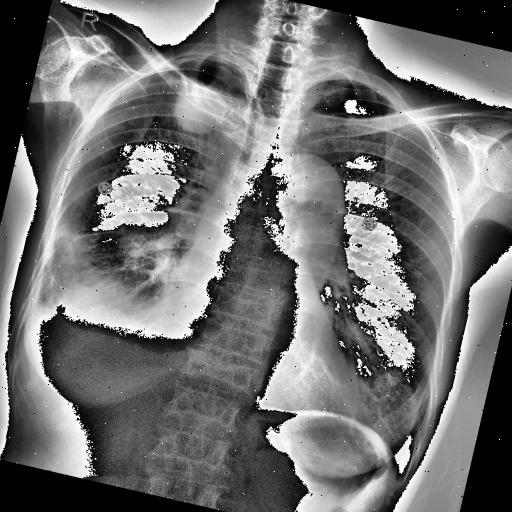0- Aortic enlargement: (258, 144, 358, 253), (264, 146, 357, 242), (262, 144, 356, 234)
10- Pleural effusion: (12, 258, 152, 398), (15, 300, 125, 365), (11, 302, 95, 362)
13- Pulmonary fibrosis: (70, 215, 128, 253)
6- Infiltration: (32, 214, 212, 352)
7- Lung Opacity: (20, 202, 206, 351), (55, 276, 197, 358), (164, 74, 232, 138)
8- Nodule-Mass: (108, 217, 183, 284), (164, 74, 232, 138), (166, 76, 234, 140), (170, 80, 232, 139)
